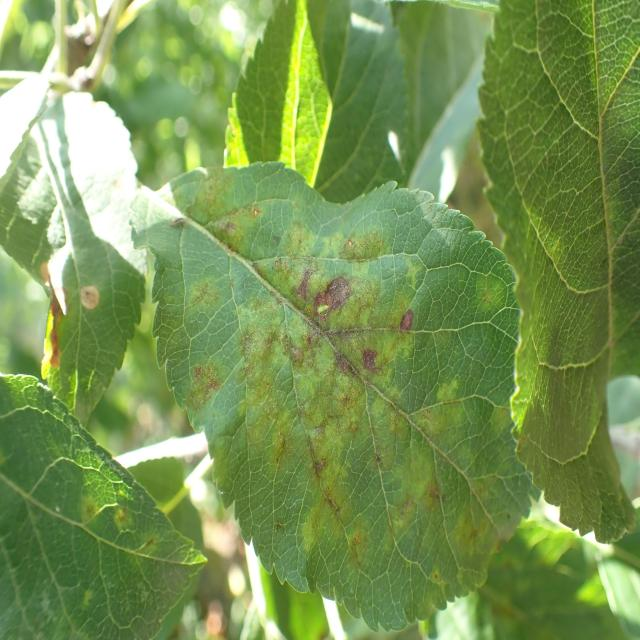scab: (160, 156, 522, 588), (50, 447, 185, 640)
